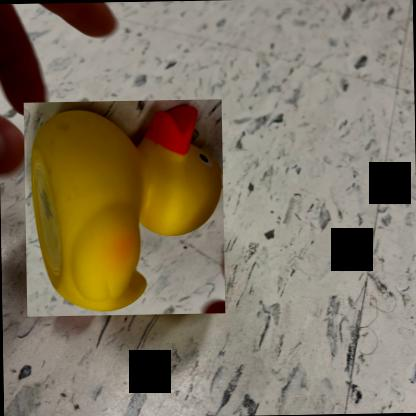duck: (23, 100, 226, 316)
